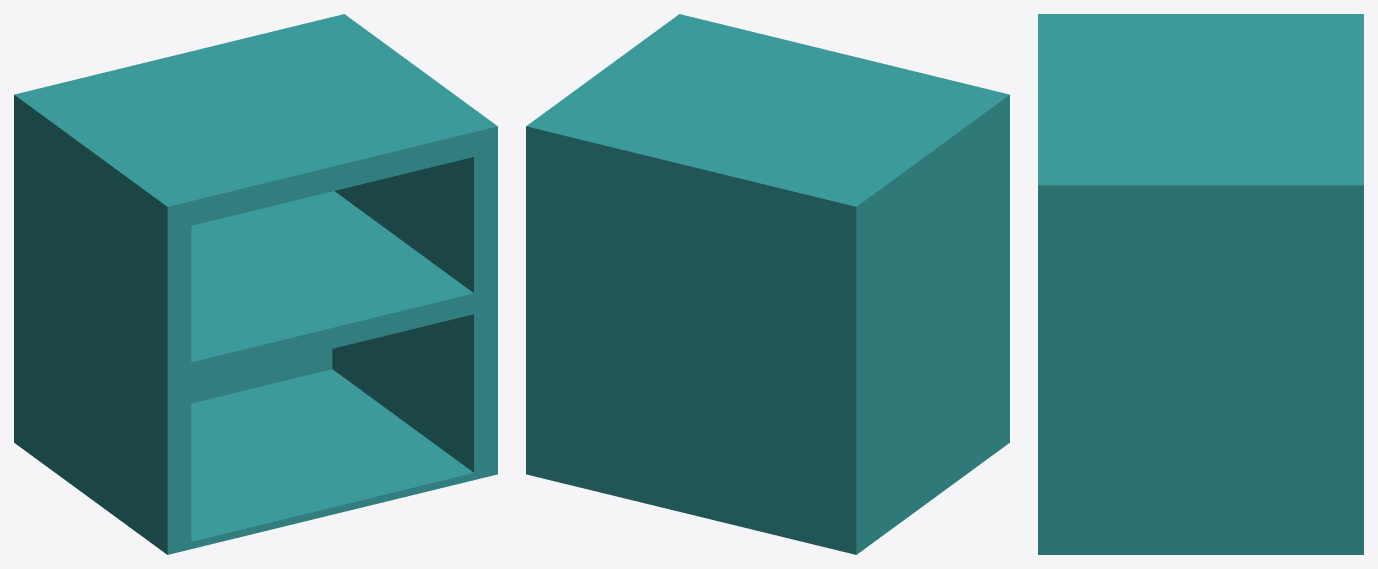
The model's file is MiniShelf.fbx.
The picture shows the model from 3 angles, left to right: view 1: azimuth 30°, elevation 25°; view 2: azimuth 150°, elevation 25°; view 3: azimuth 270°, elevation 25°; orthographic projection. The views are drawn at different scales.
Visible parts, largest first — view 1: MiniShelfModel; view 2: MiniShelfModel; view 3: MiniShelfModel.
Part boxes in pixels (x1,y1,x2,y2): MiniShelfModel: [14, 14, 497, 554]; MiniShelfModel: [526, 14, 1009, 554]; MiniShelfModel: [1038, 14, 1363, 554].
Size of the model in its own units: 1 by 1.01 by 0.8045.
